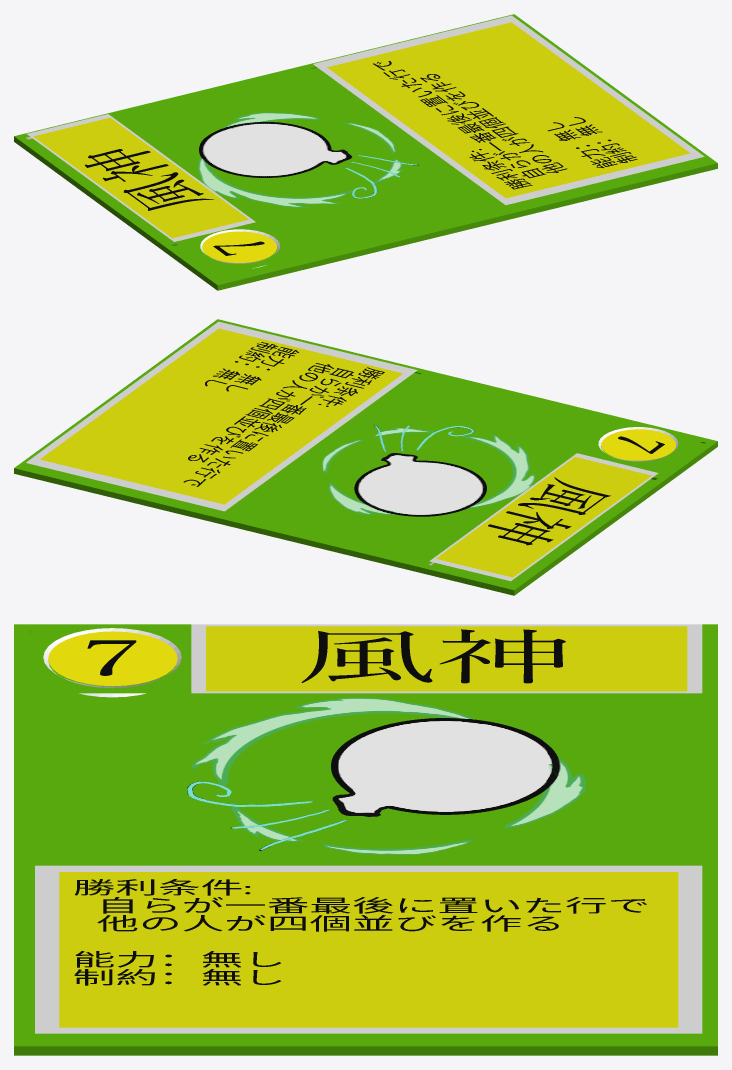
The model's file is 風神緑.fbx.
3 views of the same model, one above another, from view 1: azimuth 30°, elevation 25°; view 2: azimuth 150°, elevation 25°; view 3: azimuth 270°, elevation 25° (orthographic). The views are drawn at different scales.
Parts seen in each view (by area): view 1: カード本体.001, 説明欄, 名前欄, 平面.001, 説明文, 円, 平面, 名前; view 2: カード本体.001, 説明欄, 名前欄, 平面.001, 説明文, 円, 平面, 名前; view 3: カード本体.001, 説明欄, 名前欄, 平面.001, 説明文, 円, 平面, 名前, コスト蘭.
Part boxes in pixels (box(x1,y1,x2,y2)): カード本体.001: box(14, 14, 717, 290); 説明欄: box(313, 15, 704, 205); 名前欄: box(27, 114, 255, 241); 平面.001: box(198, 112, 418, 208); 説明文: box(373, 61, 637, 189); 円: box(202, 231, 276, 262); 平面: box(174, 222, 302, 275); 名前: box(85, 149, 214, 210); カード本体.001: box(14, 319, 717, 595); 説明欄: box(26, 321, 417, 511); 名前欄: box(429, 453, 658, 581); 平面.001: box(322, 425, 535, 516); 説明文: box(183, 342, 384, 486); 円: box(601, 429, 675, 460); 平面: box(577, 419, 704, 472); 名前: box(488, 477, 610, 545); カード本体.001: box(14, 624, 717, 1055); 説明欄: box(35, 865, 702, 1033); 名前欄: box(191, 624, 702, 693); 平面.001: box(187, 697, 585, 854); 説明文: box(74, 879, 646, 985); 円: box(48, 631, 177, 686); 平面: box(30, 624, 191, 693); 名前: box(301, 629, 565, 683); コスト蘭: box(43, 628, 181, 697).
Size of the model in its own units: 281 by 6.07 by 198.
